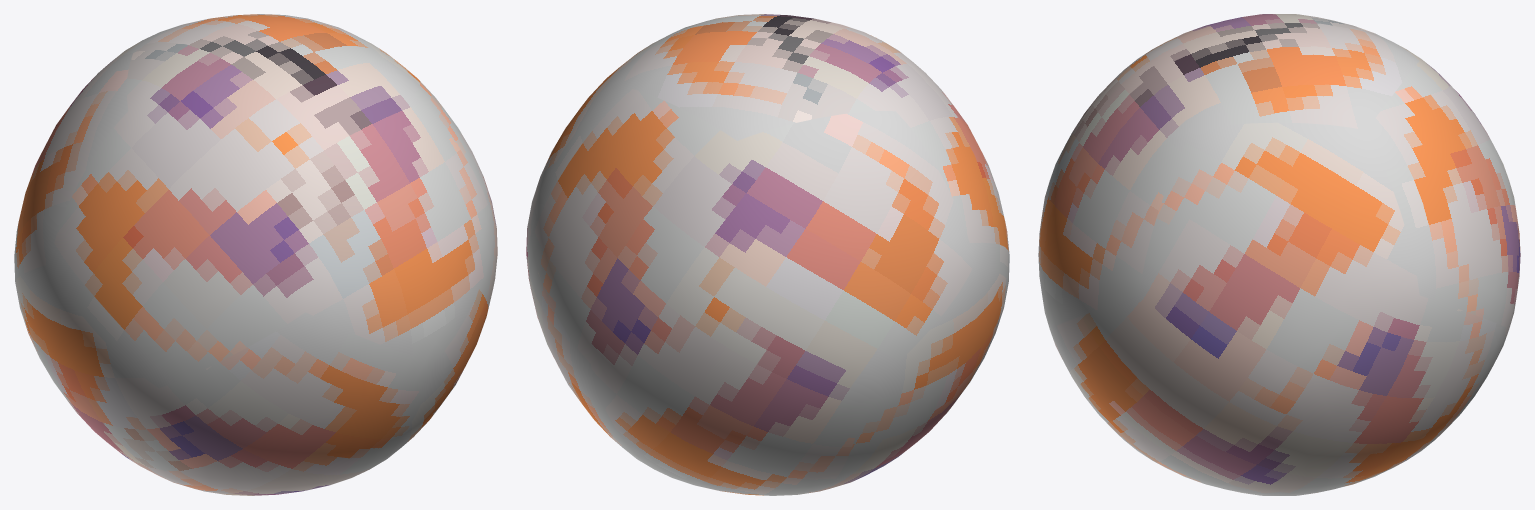
File: Ball_Nike_SM.glb
3 views of the same model, side by side, from view 1: azimuth 30°, elevation 25°; view 2: azimuth 150°, elevation 25°; view 3: azimuth 270°, elevation 25° (orthographic).
Parts seen in each view (by area): view 1: Ball_Nike_SM; view 2: Ball_Nike_SM; view 3: Ball_Nike_SM.
Part boxes in pixels (x1,y1,x2,y2): Ball_Nike_SM: [14, 14, 497, 495]; Ball_Nike_SM: [526, 14, 1009, 495]; Ball_Nike_SM: [1038, 14, 1520, 495].
Bounding box in the file's own units: 1.87 × 1.84 × 1.86.
Materials: 1 (1 with a texture image).
